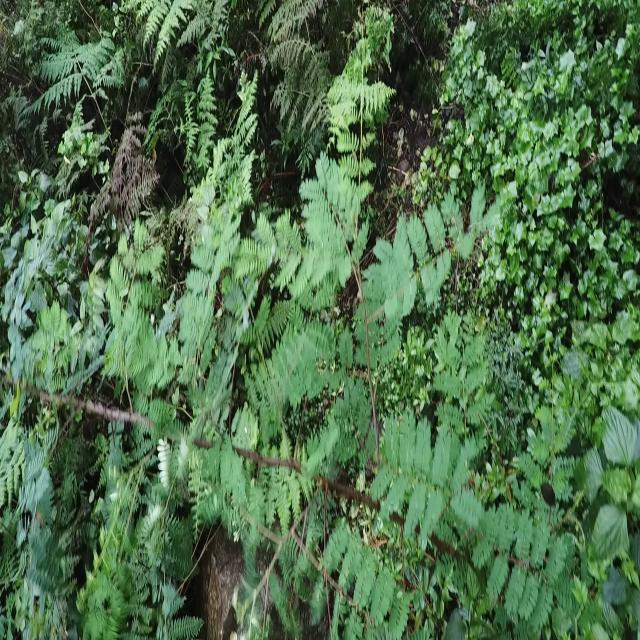Mysore-Thorn-Weed: (18, 182, 584, 640)
